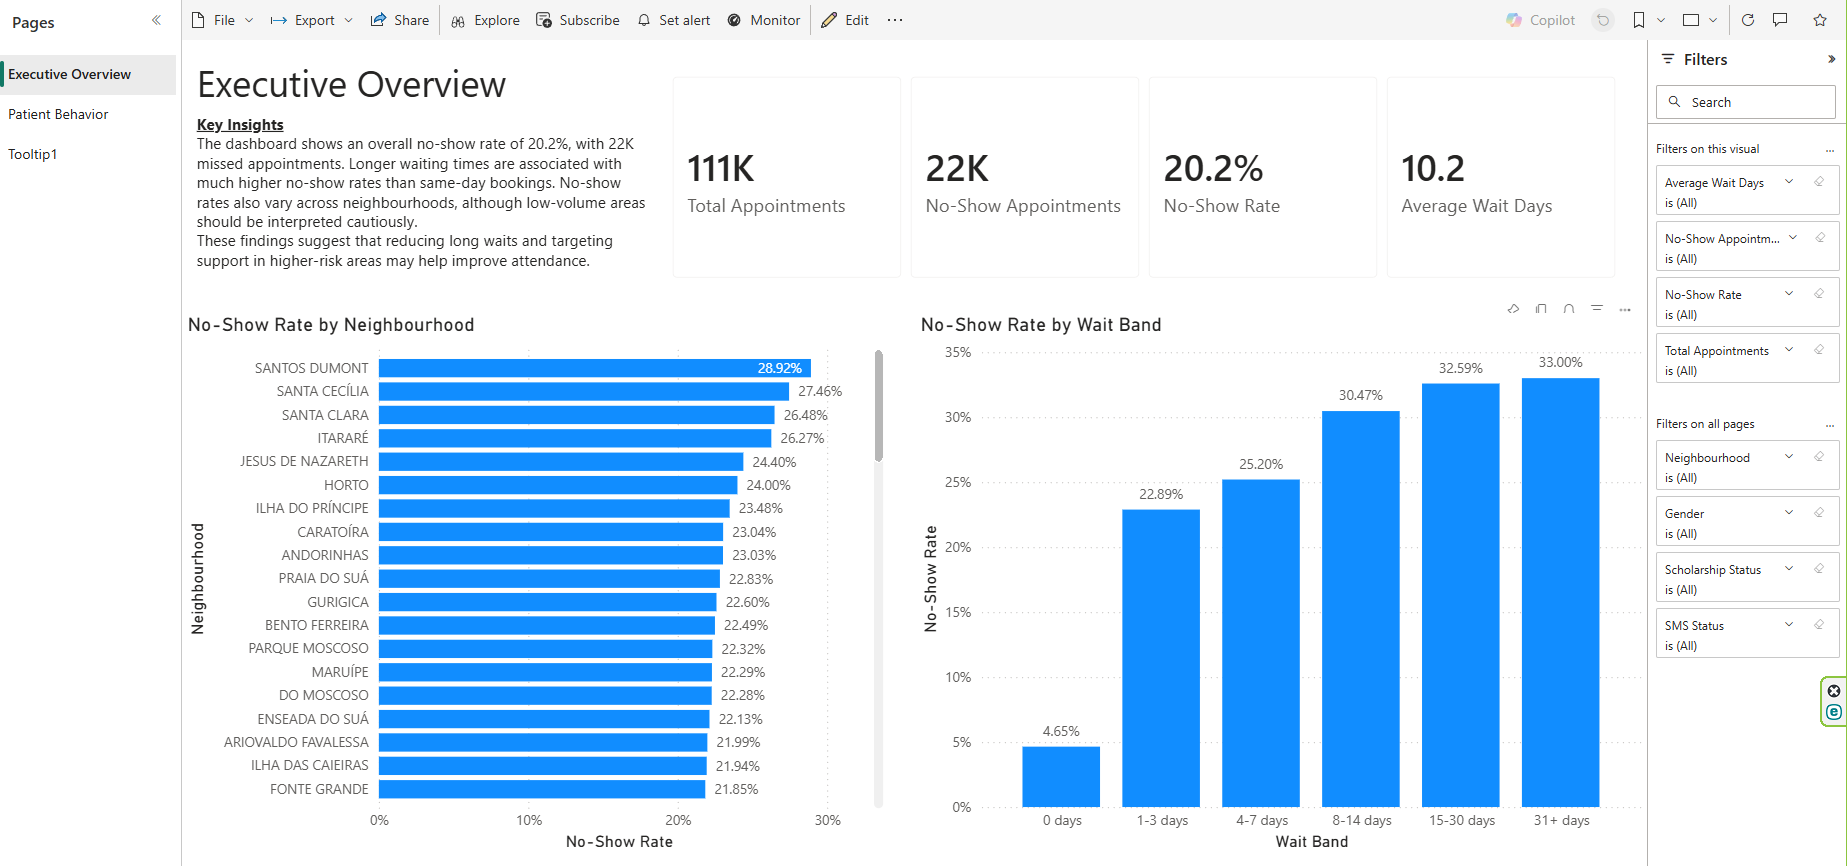

What the dashboard file says about the page in this screenshot:
{"tool":"powerbi","page":{"name":"Executive Overview","canvas":[1280,720],"ordinal":0},"visuals":[{"type":"cardVisual","fields":{"Data":["medical_appointments_cleaned.Total Appointments","medical_appointments_cleaned.Missed Appointments","medical_appointments_cleaned.No-Show Rate","medical_appointments_cleaned.Average Wait Days"]},"box":[411.4,14.6,860.8,210.1],"z":0},{"type":"clusteredBarChart","title":"No-Show Rate by Neighbourhood","fields":{"Category":["medical_appointments_cleaned.Neighbourhood"],"Y":["medical_appointments_cleaned.No-Show Rate"]},"box":[0,238.3,617.6,474.7],"z":1000},{"type":"columnChart","fields":{"Category":["medical_appointments_cleaned.Wait Band"],"Y":["medical_appointments_cleaned.No-Show Rate"]},"box":[640,238.3,640,474.7],"z":2000},{"type":"textbox","box":[7.8,9.7,292.8,79.8],"z":2250},{"type":"textbox","box":[7.8,59.3,403.6,165.3],"z":2500}]}

Visuals, with their boxes on the page's 1280x720 design canvas (x1, y1, x2, y2). These are canvas units, not pixel positions in the 1847x866 screenshot, which may show the page scaled, cropped or inside an application window:
cardVisual - medical_appointments_cleaned.Total Appointments x medical_appointments_cleaned.Missed Appointments: 411, 15, 1272, 225
"No-Show Rate by Neighbourhood" clusteredBarChart: 0, 238, 618, 713
columnChart - medical_appointments_cleaned.Wait Band x medical_appointments_cleaned.No-Show Rate: 640, 238, 1280, 713
textbox: 8, 10, 301, 90
textbox: 8, 59, 411, 225
